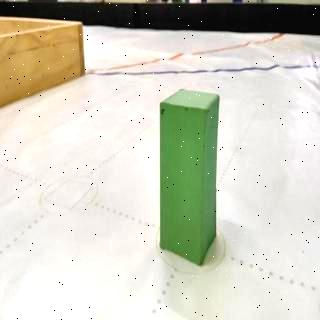greenbox: (159, 88, 220, 266)
